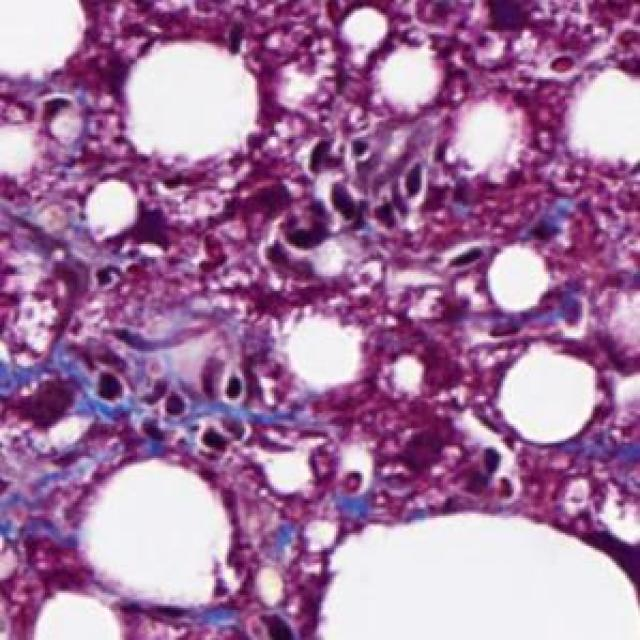inflammation: (272, 137, 449, 261), (83, 353, 274, 450)
